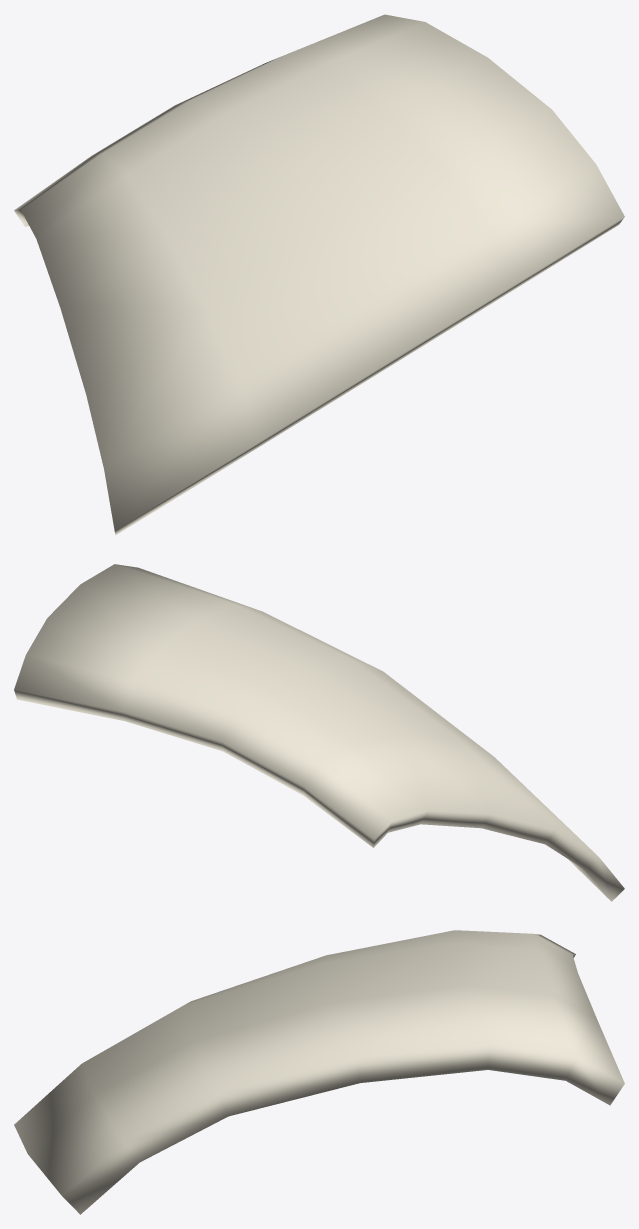
3 renders of one model, top to bottom at view 1: azimuth 30°, elevation 25°; view 2: azimuth 150°, elevation 25°; view 3: azimuth 270°, elevation 25°, orthographic. The views are drawn at different scales.
Parts seen in each view (by area): view 1: ZA_80ca46049224a426; view 2: ZA_80ca46049224a426; view 3: ZA_80ca46049224a426.
Boxes of the visible parts, left/top/right/bottom form: ZA_80ca46049224a426: left=14, top=14, right=624, bottom=535; ZA_80ca46049224a426: left=14, top=564, right=624, bottom=901; ZA_80ca46049224a426: left=14, top=930, right=624, bottom=1214.
Bounding box in the file's own units: 0.0147 × 0.00821 × 0.0113.
